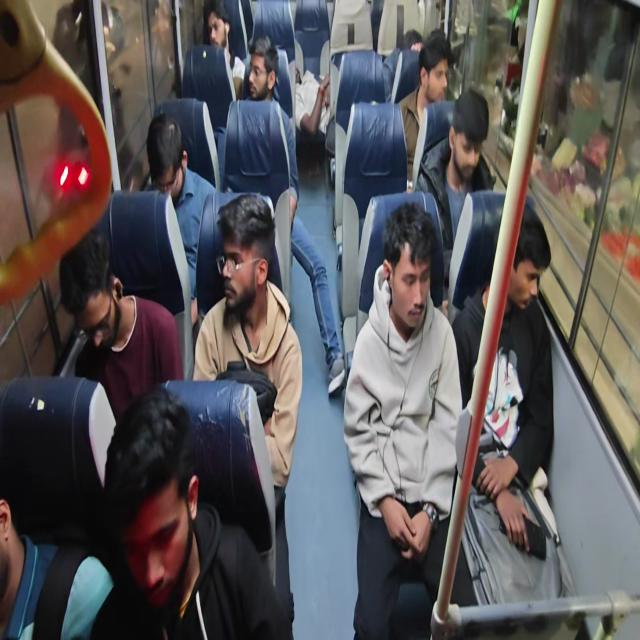person: (359, 213, 471, 426), (108, 415, 206, 608), (481, 241, 586, 405), (44, 223, 129, 400), (0, 404, 47, 640), (437, 73, 526, 195), (125, 109, 208, 238), (290, 48, 366, 188), (213, 207, 286, 348), (426, 30, 472, 141), (392, 24, 449, 96), (238, 56, 280, 118), (201, 0, 231, 76)
